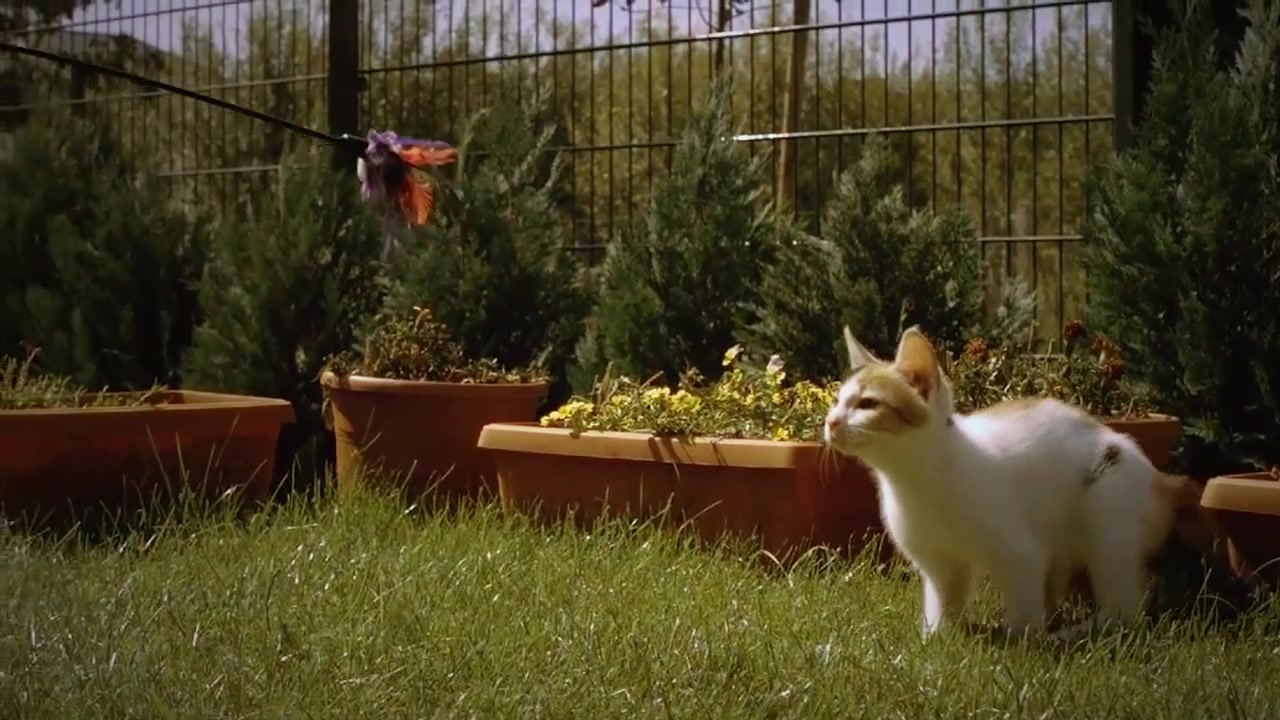cat: (819, 320, 1202, 644)
